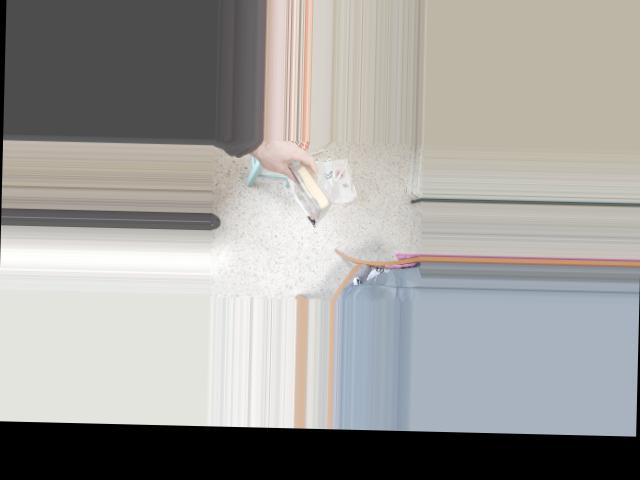cheese: (280, 144, 335, 228)
